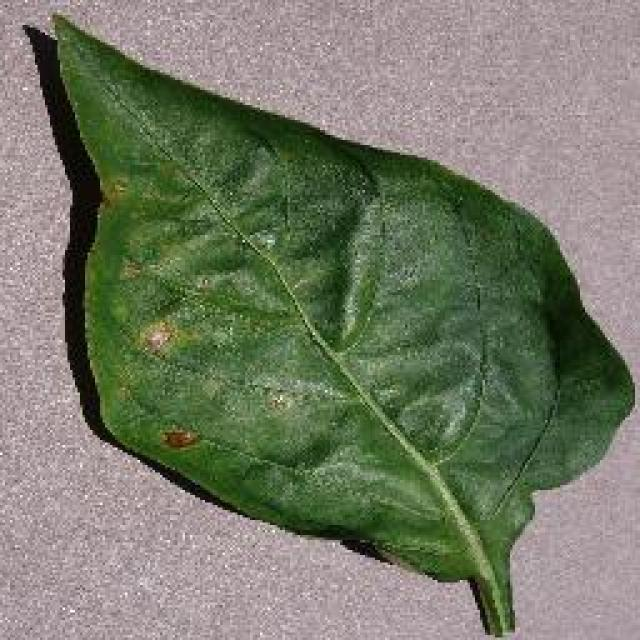Chilli_Bacterial_Spot: (25, 8, 637, 638), (155, 422, 203, 452), (140, 320, 175, 358), (260, 385, 295, 417), (113, 253, 145, 285)
